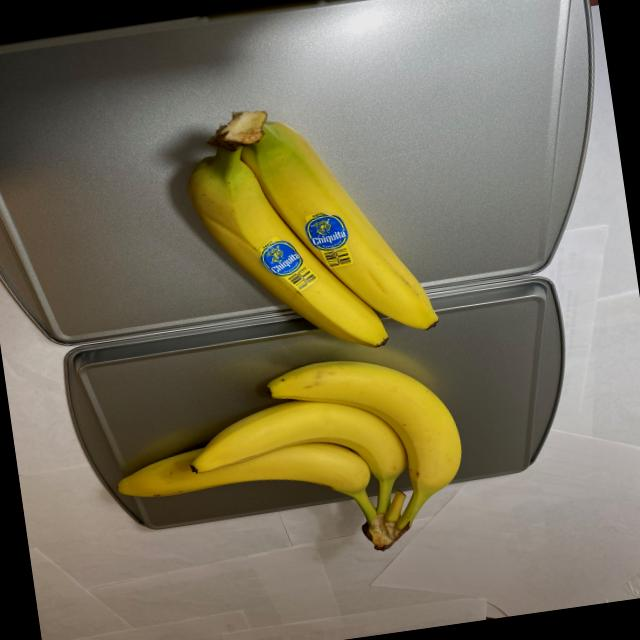banana: (101, 344, 479, 586), (174, 90, 446, 372)
